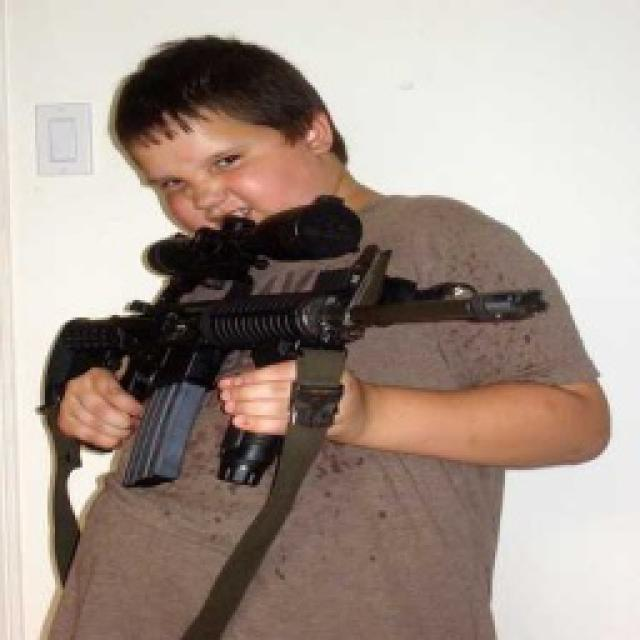long weapon: (32, 215, 536, 487)
